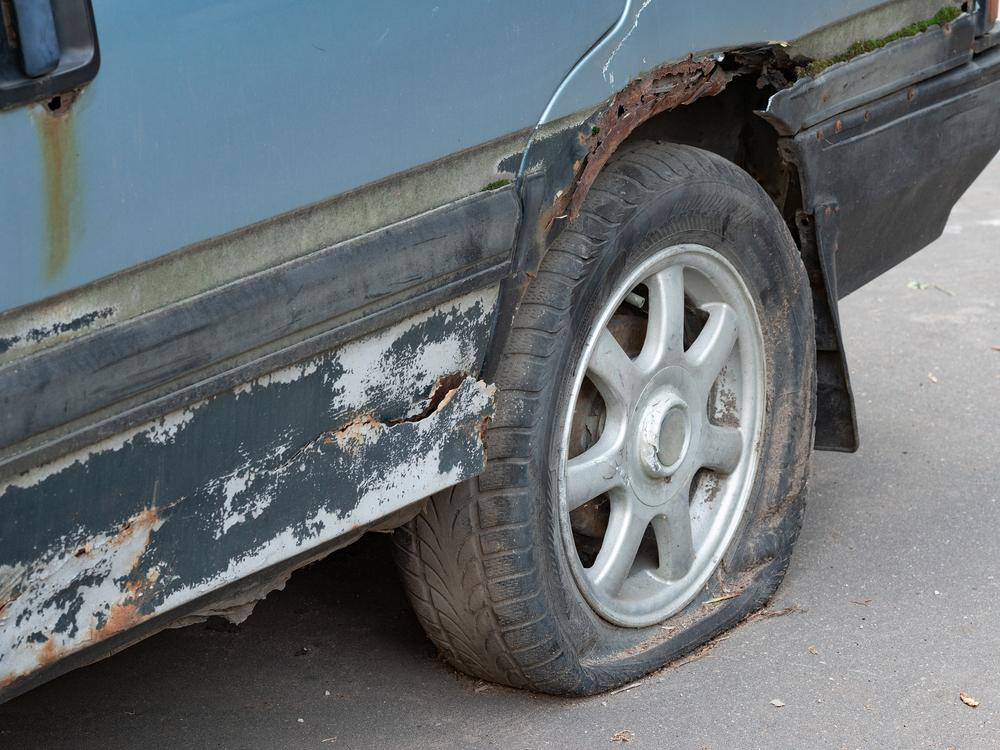crack: (280, 368, 475, 473)
tire flat: (394, 141, 818, 694)
